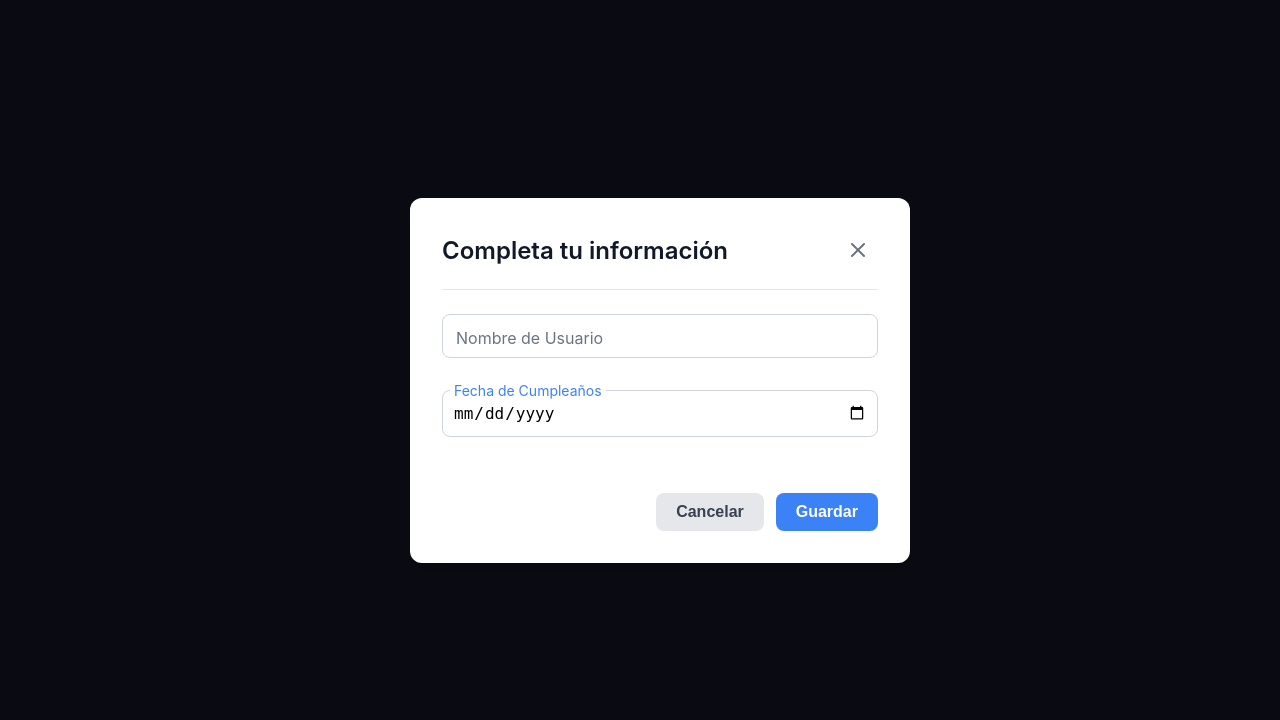
Test: UserForm › Validación del Formulario › muestra mensajes de error si se intenta enviar el formulario con campos vacíos
Click the button "Guardar". click: click(827, 512)
box: [776,492,878,530]
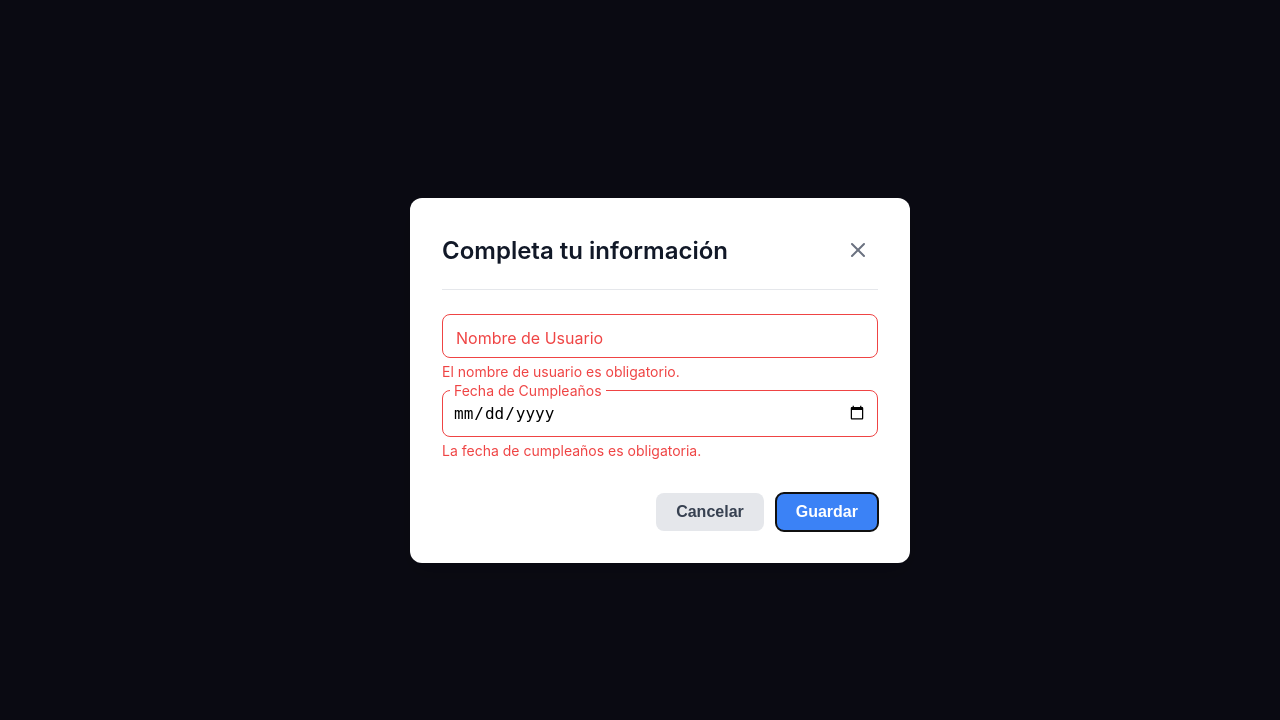
Expected: the text "El nombre de usuario es obligatorio." is shown, [442,360,680,382]
Expected: the text "La fecha de cumpleaños es obligatoria." is shown, [442,440,701,460]
